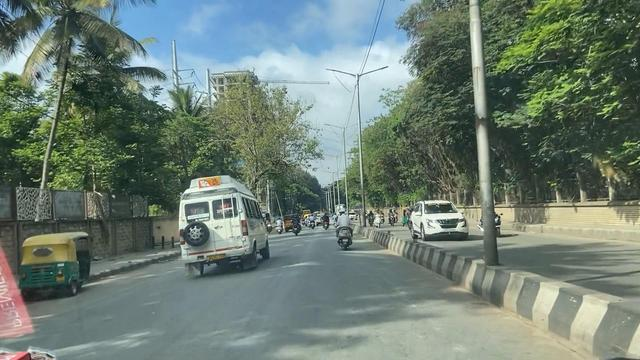HMV: (174, 173, 273, 274)
LMV: (22, 235, 93, 291)
